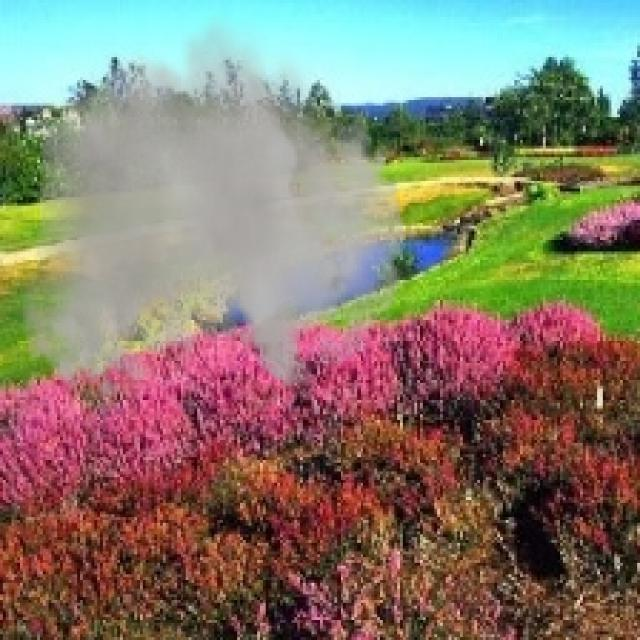Smoke: (20, 6, 403, 400)
